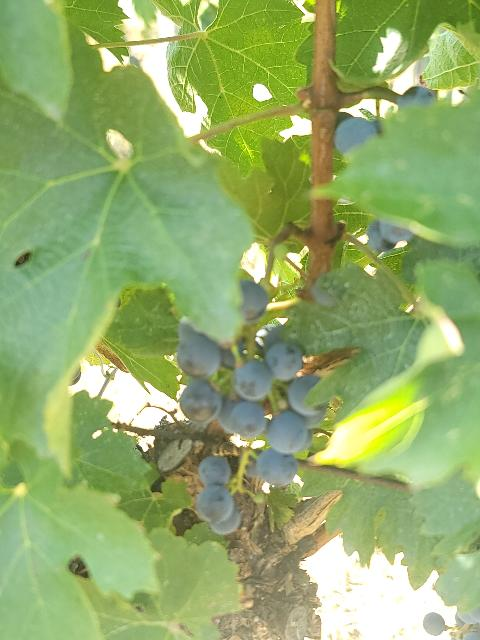grapes: (176, 279, 326, 488), (198, 456, 239, 531)
